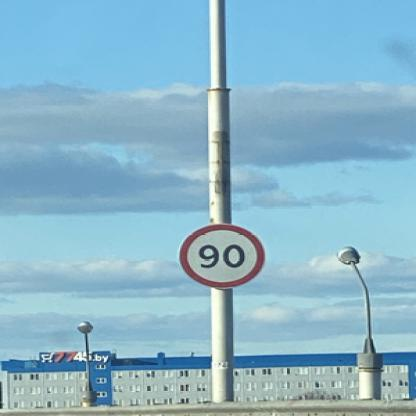speedlimit: (176, 223, 264, 287)
